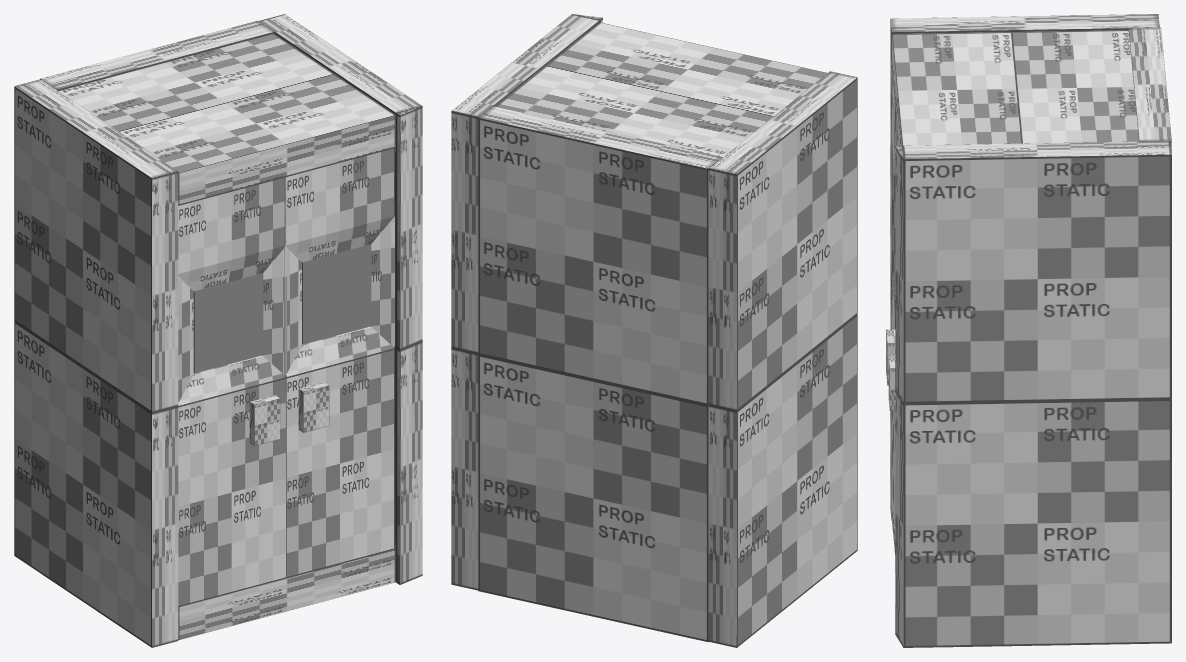
The model's file is Cabinet.fbx.
The picture shows the model from 3 angles, left to right: view 1: azimuth 30°, elevation 25°; view 2: azimuth 150°, elevation 25°; view 3: azimuth 270°, elevation 25°; orthographic projection. The views are drawn at different scales.
Visible parts, largest first — view 1: Cabinet__1_, Cabinet__10_, Cabinet__11_, Cabinet__6_, Cabinet__5_, Cabinet__7_, window_1, window, Cabinet__2_, Cabinet, handle_1, handle_2; view 2: Cabinet, Cabinet__1_, Cabinet__6_, Cabinet__2_, Cabinet__5_; view 3: Cabinet__2_, Cabinet__6_, Cabinet__5_, Cabinet__1_, Cabinet, Cabinet__11_, handle_1.
Boxes of the visible parts, bbox=[...] form: Cabinet__1_: bbox=[14, 79, 178, 647]; Cabinet__10_: bbox=[284, 147, 394, 578]; Cabinet__11_: bbox=[178, 176, 286, 607]; Cabinet__6_: bbox=[59, 34, 395, 204]; Cabinet__5_: bbox=[259, 14, 422, 584]; Cabinet__7_: bbox=[178, 545, 395, 640]; window_1: bbox=[193, 273, 263, 373]; window: bbox=[302, 244, 371, 344]; Cabinet__2_: bbox=[259, 14, 422, 582]; Cabinet: bbox=[40, 20, 274, 91]; handle_1: bbox=[298, 382, 329, 432]; handle_2: bbox=[249, 395, 280, 445]; Cabinet: bbox=[478, 106, 722, 642]; Cabinet__1_: bbox=[709, 71, 857, 647]; Cabinet__6_: bbox=[495, 22, 827, 156]; Cabinet__2_: bbox=[451, 14, 598, 590]; Cabinet__5_: bbox=[452, 14, 602, 116]; Cabinet__2_: bbox=[902, 141, 1171, 647]; Cabinet__6_: bbox=[892, 30, 1138, 145]; Cabinet__5_: bbox=[895, 141, 1171, 647]; Cabinet__1_: bbox=[890, 14, 1159, 520]; Cabinet: bbox=[1128, 27, 1171, 150]; Cabinet__11_: bbox=[892, 70, 897, 520]; handle_1: bbox=[888, 355, 895, 410].
Size of the model in its own units: 164 by 258 by 137.
